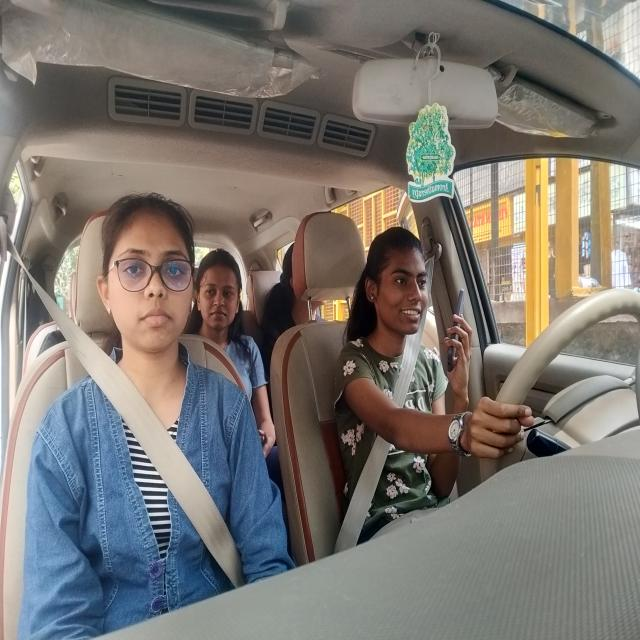mobile: (445, 284, 469, 374)
person: (93, 185, 197, 354), (361, 225, 429, 337), (192, 246, 249, 336)
